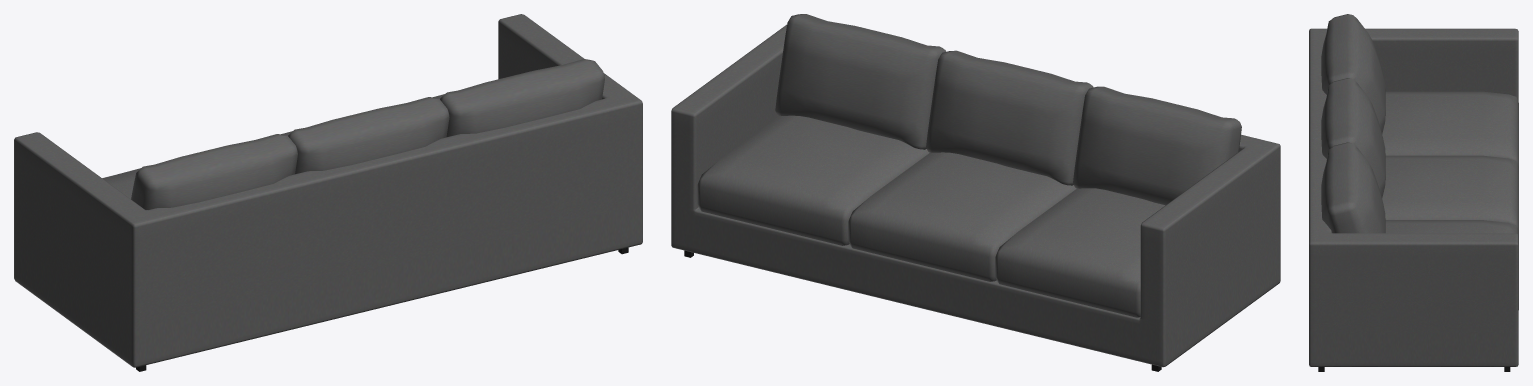
File: VIM_Sofa.obj
3 views of the same model, side by side, from view 1: azimuth 30°, elevation 25°; view 2: azimuth 150°, elevation 25°; view 3: azimuth 270°, elevation 25° (orthographic). The views are drawn at different scales.
Parts seen in each view (by area): view 1: polySurface14; view 2: polySurface14; view 3: polySurface14.
Part boxes in pixels (x1=…): polySurface14: x1=14, y1=14, x2=642, y2=371; polySurface14: x1=671, y1=14, x2=1280, y2=371; polySurface14: x1=1309, y1=14, x2=1518, y2=371.
Size of the model in its own units: 24.14 by 8.38 by 9.94.
1 material, 1 textured.
